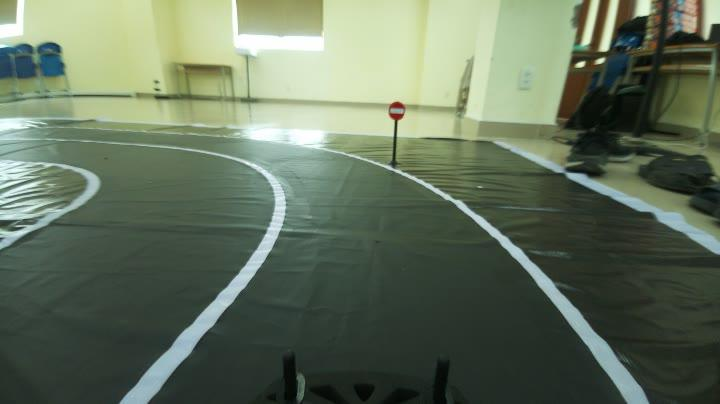no_entry: (386, 95, 411, 125)
